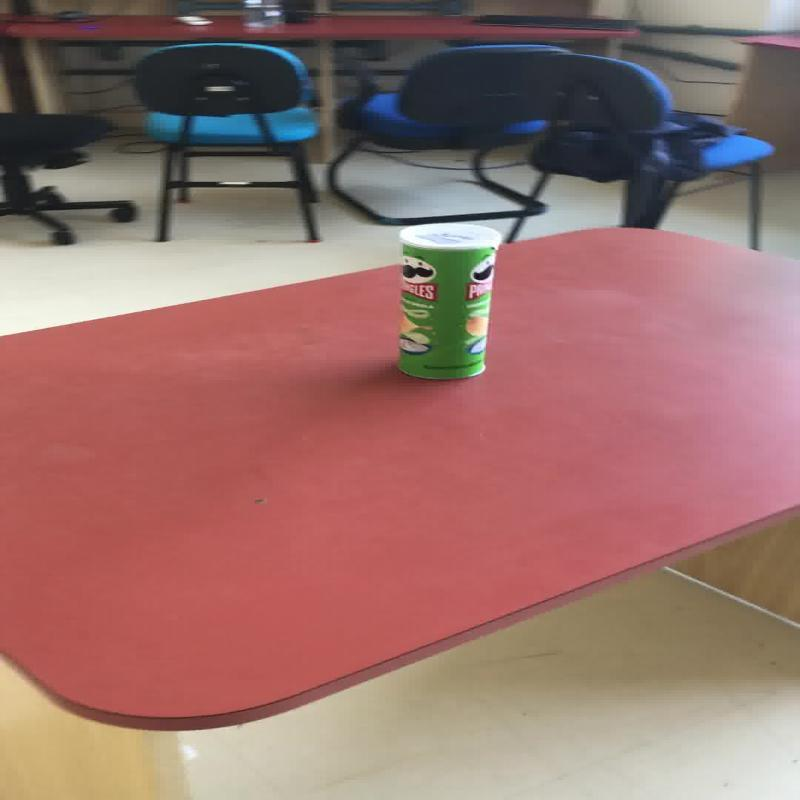pringles: (393, 221, 501, 380)
